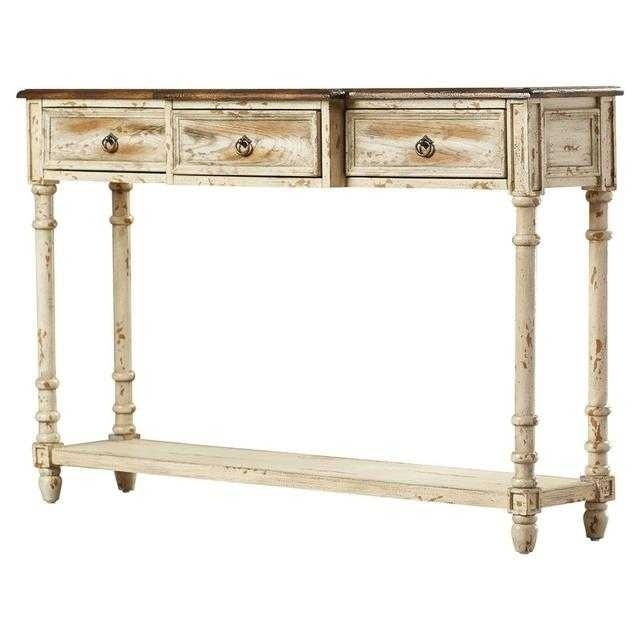obstacle: (18, 87, 621, 552)
